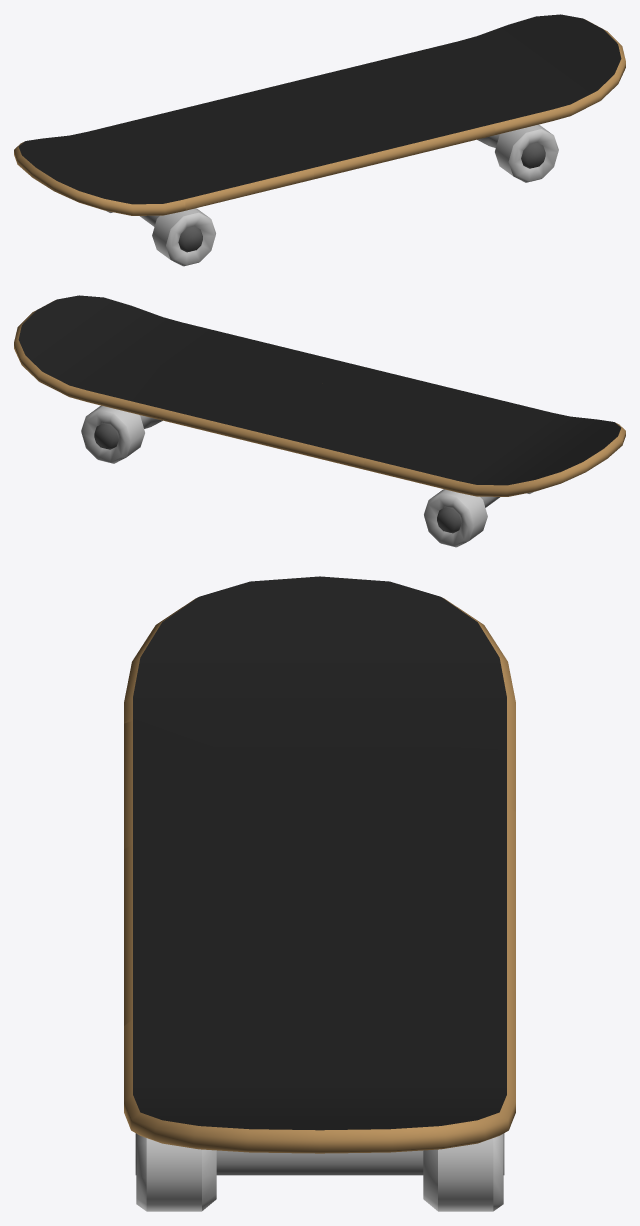
The model's file is Entity_Skateboard-bkn.FBX.
3 views of the same model, one above another, from view 1: azimuth 30°, elevation 25°; view 2: azimuth 150°, elevation 25°; view 3: azimuth 270°, elevation 25° (orthographic). The views are drawn at different scales.
Parts seen in each view (by area): view 1: Skateboard_Part_1, Skateboard_Part_4, Skateboard_Part_5, Skateboard_Part_2, Skateboard_Part_3, Wheel001, Wheel; view 2: Skateboard_Part_1, Skateboard_Part_4, Skateboard_Part_5, Skateboard_Part_2, Skateboard_Part_3, Wheel003, Wheel002; view 3: Skateboard_Part_4, Skateboard_Part_1, Skateboard_Part_5, Skateboard_Part_2, Skateboard_Part_3, Wheel002, Wheel, Axel.
Part boxes in pixels (box(x1,y1,x2,y2)): Skateboard_Part_1: box(366, 14, 625, 135); Skateboard_Part_4: box(14, 109, 210, 215); Skateboard_Part_5: box(180, 64, 430, 153); Skateboard_Part_2: box(295, 102, 495, 179); Skateboard_Part_3: box(185, 140, 313, 210); Wheel001: box(152, 208, 215, 266); Wheel: box(495, 124, 558, 182); Skateboard_Part_1: box(14, 295, 241, 424); Skateboard_Part_4: box(364, 411, 625, 496); Skateboard_Part_5: box(179, 370, 414, 469); Skateboard_Part_2: box(227, 337, 420, 393); Skateboard_Part_3: box(401, 381, 546, 431); Wheel003: box(424, 489, 487, 547); Wheel002: box(81, 405, 144, 463); Skateboard_Part_4: box(124, 576, 515, 811); Skateboard_Part_1: box(124, 987, 515, 1153); Skateboard_Part_5: box(208, 797, 515, 996); Skateboard_Part_2: box(124, 844, 284, 1025); Skateboard_Part_3: box(124, 721, 347, 848); Wheel002: box(423, 1133, 504, 1211); Wheel: box(135, 1133, 216, 1211); Axel: box(216, 1150, 423, 1175).
Bounding box in the file's own units: 264 × 40.43 × 77.98.
